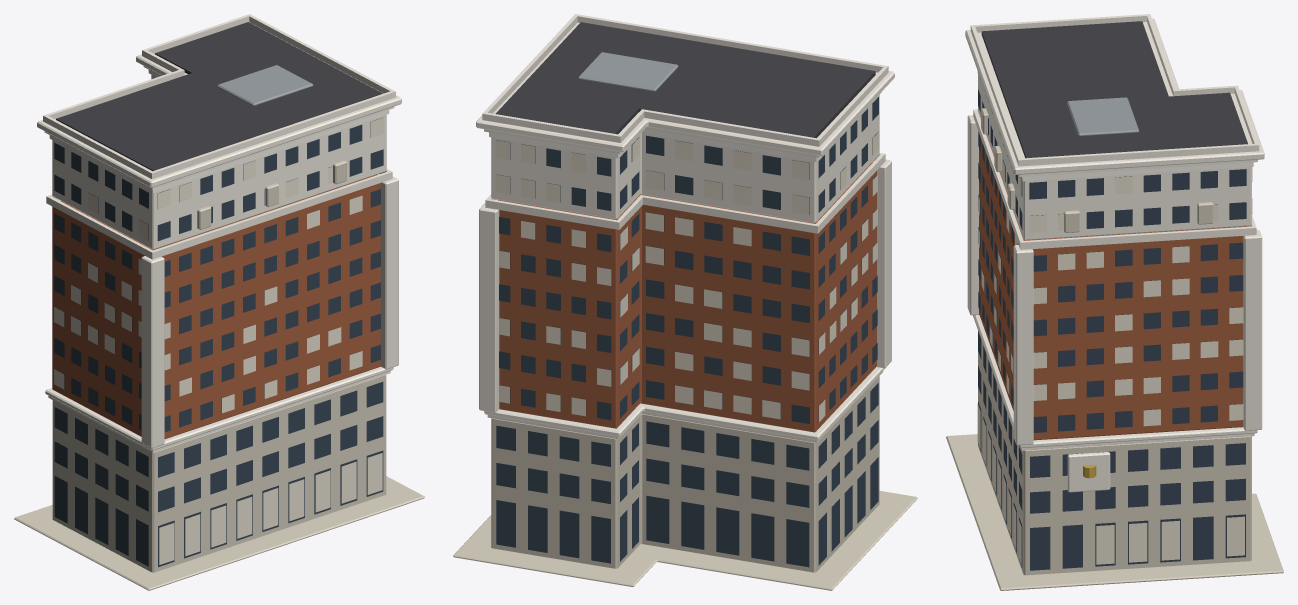
The model's file is 201-sansome-street.glb.
3 views of the same model, side by side, from view 1: azimuth 30°, elevation 25°; view 2: azimuth 150°, elevation 25°; view 3: azimuth 270°, elevation 25° (orthographic). The views are drawn at different scales.
Visible parts, largest first — view 1: 201-sansome-street_body, 201-sansome-street_night_glow; view 2: 201-sansome-street_body, 201-sansome-street_night_glow; view 3: 201-sansome-street_body, 201-sansome-street_night_glow.
Boxes of the visible parts, x1,y1,x2,y2 form: 201-sansome-street_body: [14, 14, 424, 590]; 201-sansome-street_night_glow: [49, 70, 389, 564]; 201-sansome-street_body: [453, 14, 917, 590]; 201-sansome-street_night_glow: [489, 92, 881, 421]; 201-sansome-street_body: [946, 14, 1283, 590]; 201-sansome-street_night_glow: [977, 71, 1253, 565].
Size of the model in its own units: 35.23 by 41.3 by 30.07.
